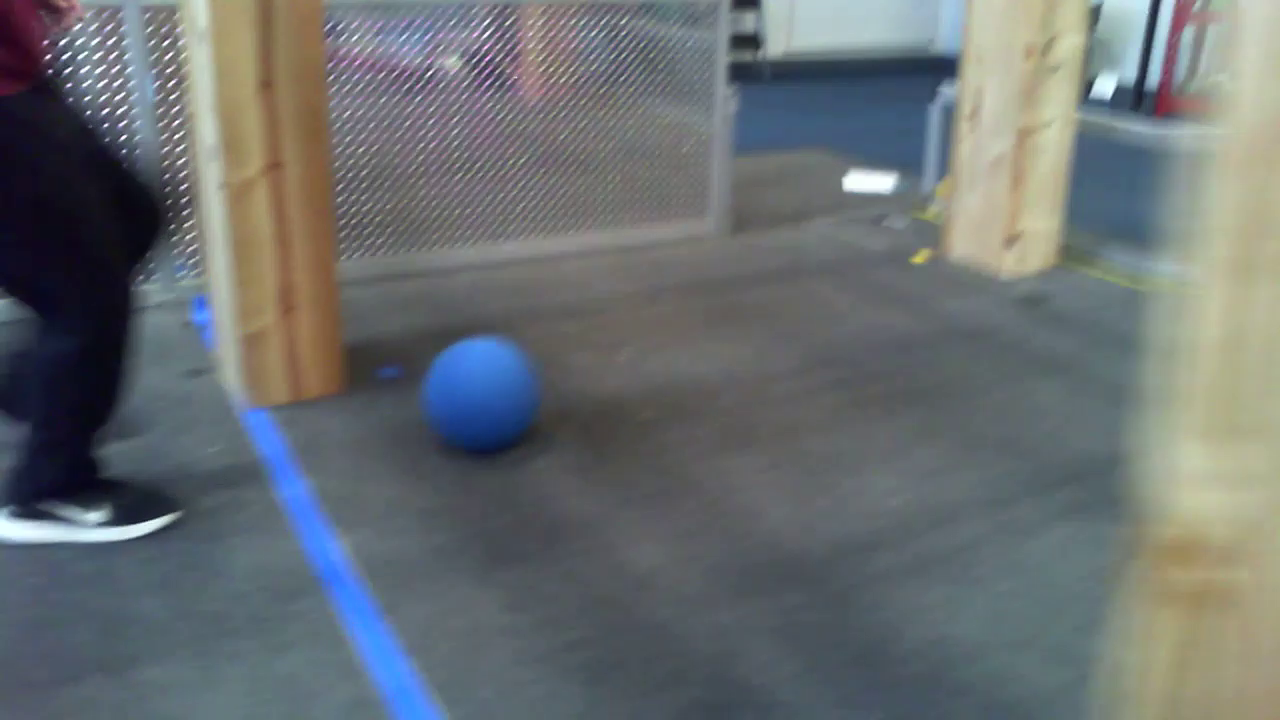blue_cargo: (423, 331, 544, 452)
